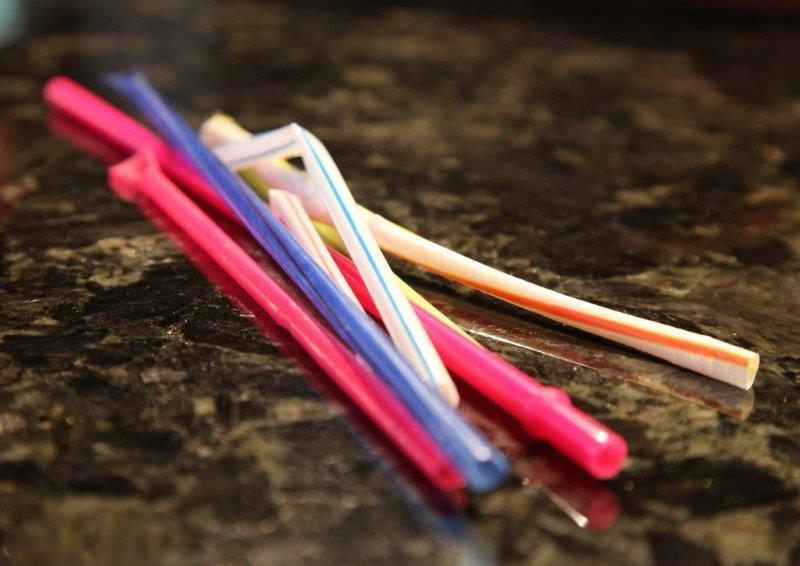plastic: (46, 72, 628, 499)
